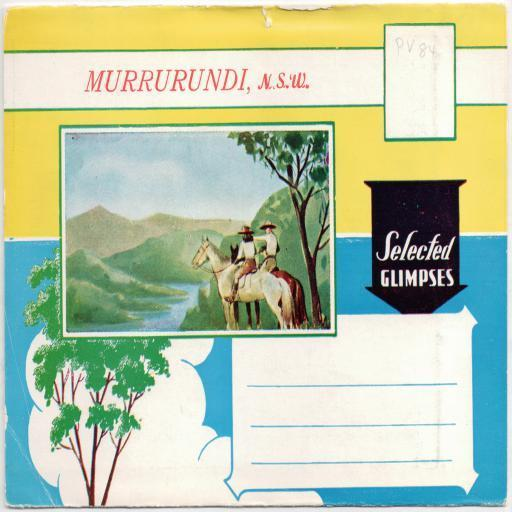horse: (190, 233, 294, 333), (229, 240, 310, 329)
